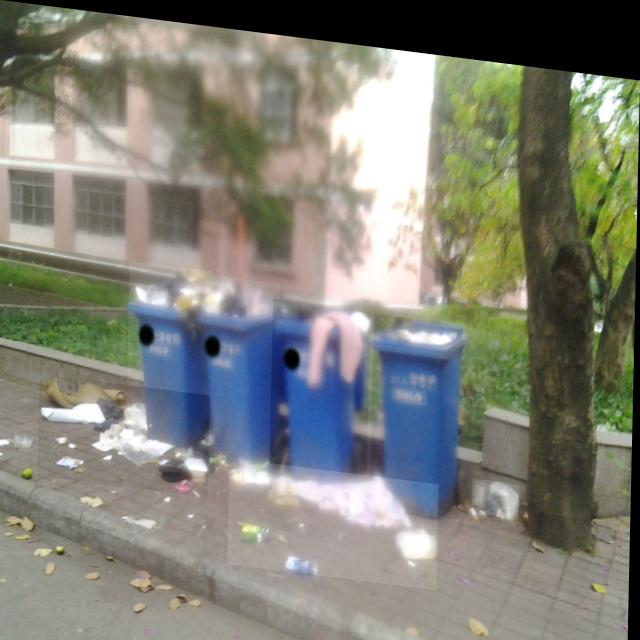garbage: (230, 452, 441, 579), (40, 373, 212, 492), (474, 466, 522, 508)
overflow: (372, 304, 464, 507), (271, 292, 371, 476), (128, 257, 214, 445), (197, 269, 282, 456)
